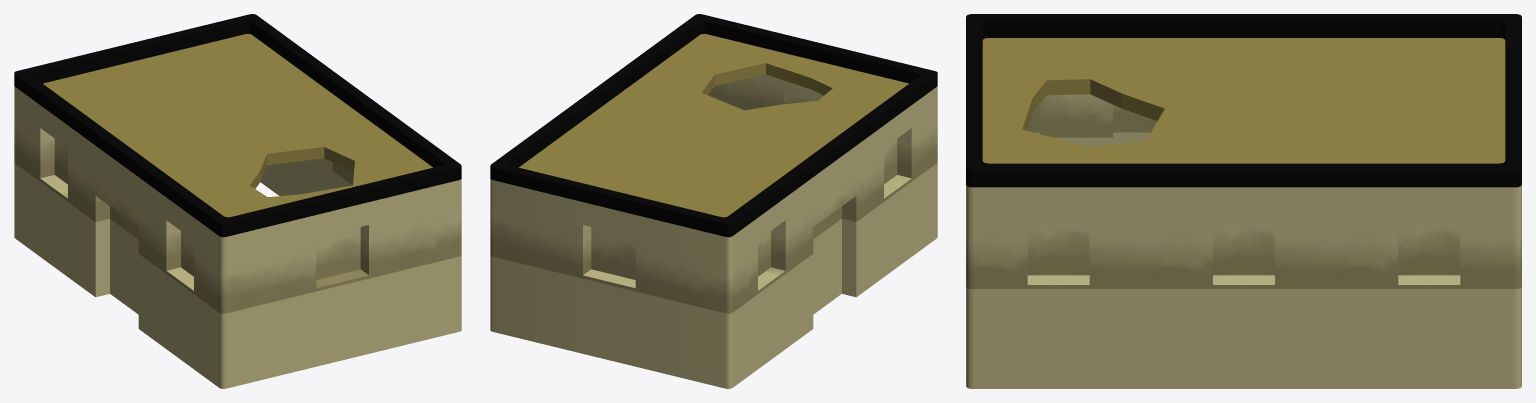
Rendered from CasaBajaRota.FBX.
The picture shows the model from 3 angles, left to right: view 1: azimuth 30°, elevation 25°; view 2: azimuth 150°, elevation 25°; view 3: azimuth 270°, elevation 25°; orthographic projection. The views are drawn at different scales.
Visible parts, largest first — view 1: Object004; view 2: Object004; view 3: Object004.
Part boxes in pixels (<box>): Object004: <box>14,14,461,388</box>; Object004: <box>490,14,937,388</box>; Object004: <box>966,14,1521,388</box>.
Bounding box in the file's own units: 10 × 6.5 × 15.
Materials: 2 (1 with a texture image).
